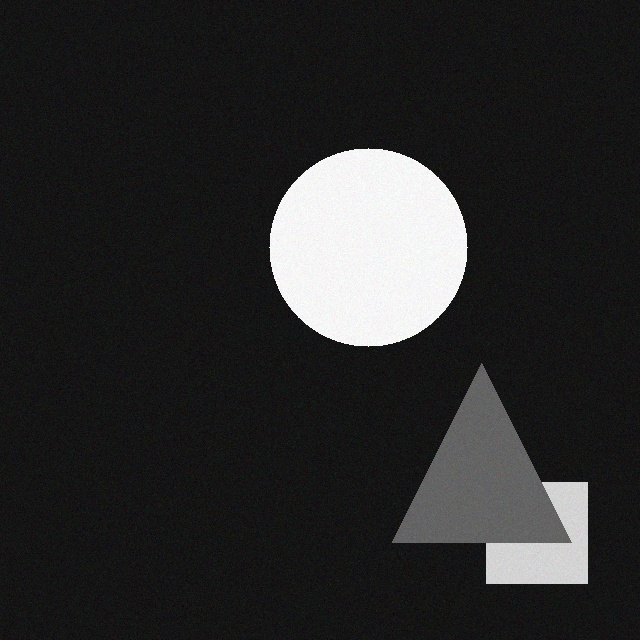circle: (255, 160, 453, 358)
square: (472, 494, 573, 595)
triangle: (378, 375, 557, 554)
